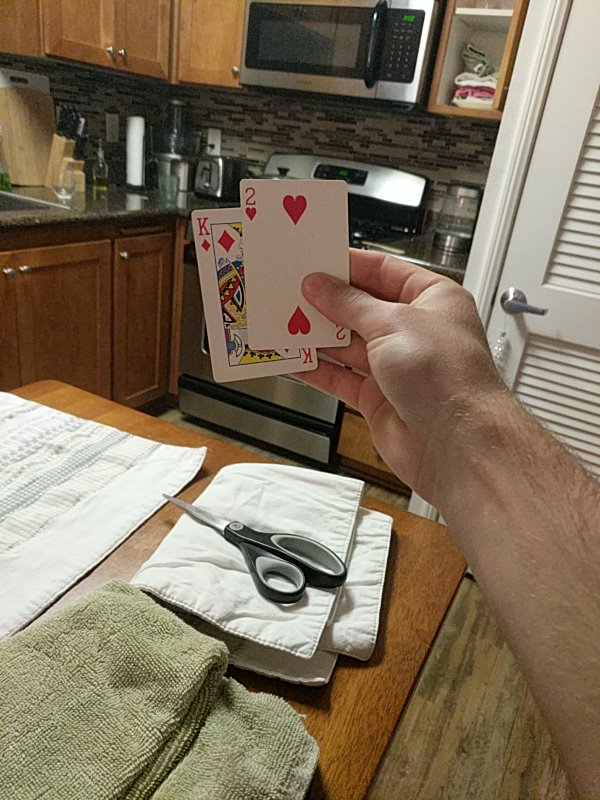Diamonds: (189, 203, 316, 381)
Hearts: (240, 181, 353, 345)
